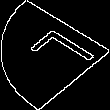L_SE: (14, 27, 96, 83)
